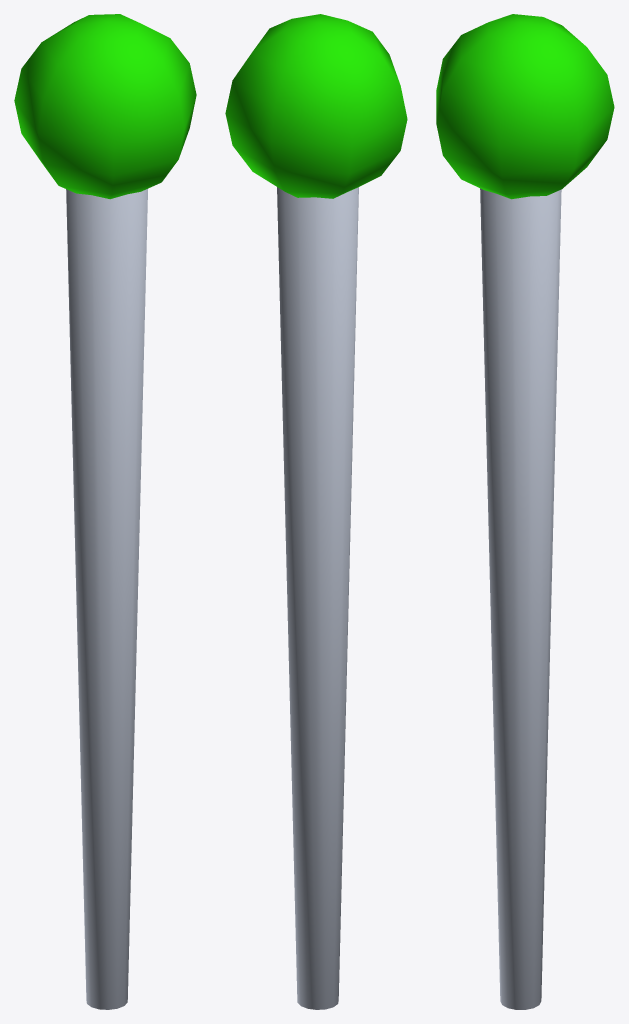
File: pin0.glb
3 renders of one model, left to right at view 1: azimuth 30°, elevation 25°; view 2: azimuth 150°, elevation 25°; view 3: azimuth 270°, elevation 25°, orthographic.
Visible parts, largest first — view 1: Cylinder; view 2: Cylinder; view 3: Cylinder.
Part boxes in pixels (bbox=[...]): Cylinder: bbox=[14, 14, 196, 1009]; Cylinder: bbox=[225, 14, 407, 1009]; Cylinder: bbox=[436, 14, 614, 1009].
Size of the model in its own units: 0.00265 by 0.0157 by 0.00259.
